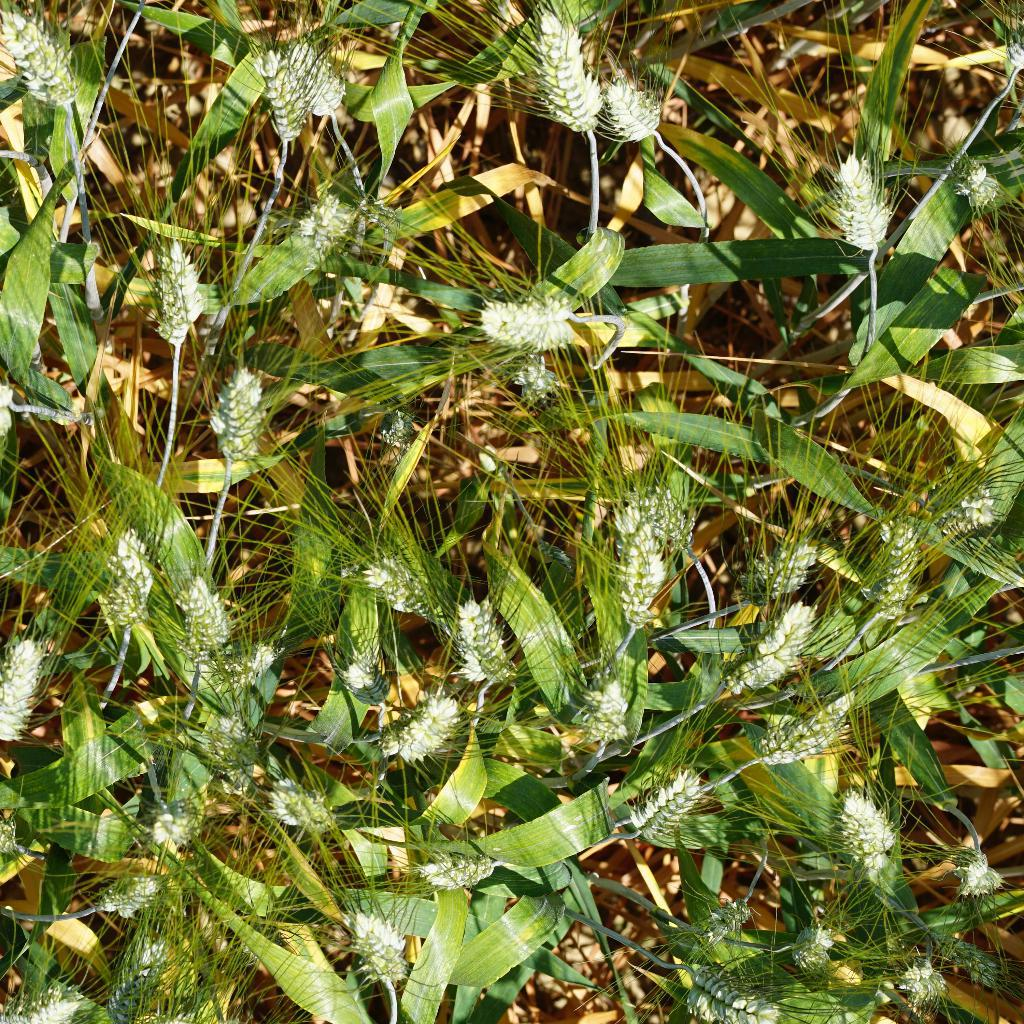0-0: (508, 0, 605, 149), (720, 595, 828, 709), (742, 683, 863, 781), (818, 135, 901, 268), (397, 829, 527, 907), (855, 507, 937, 630), (0, 0, 86, 115), (317, 896, 425, 987), (361, 677, 455, 778), (198, 358, 271, 484), (470, 276, 589, 351), (453, 586, 531, 699), (600, 503, 666, 636), (92, 519, 163, 642), (829, 789, 908, 899), (602, 761, 706, 843), (672, 950, 784, 1024), (137, 230, 210, 343), (900, 470, 1000, 552), (347, 541, 440, 627), (100, 917, 173, 1024), (604, 60, 684, 156), (163, 565, 232, 672), (567, 679, 661, 757), (0, 621, 55, 751), (286, 36, 355, 139), (634, 473, 714, 560), (736, 535, 834, 604), (208, 618, 284, 704), (920, 925, 1009, 997), (940, 145, 1024, 218), (261, 768, 342, 843), (250, 47, 311, 146), (873, 953, 956, 1024), (199, 709, 258, 803), (294, 187, 367, 262), (680, 879, 750, 956), (89, 852, 168, 920), (941, 838, 1009, 915), (352, 388, 428, 456), (318, 635, 382, 705), (781, 905, 844, 975), (132, 793, 203, 854), (0, 975, 88, 1024), (524, 533, 583, 596), (512, 352, 580, 406), (229, 914, 289, 972), (356, 189, 401, 241)
